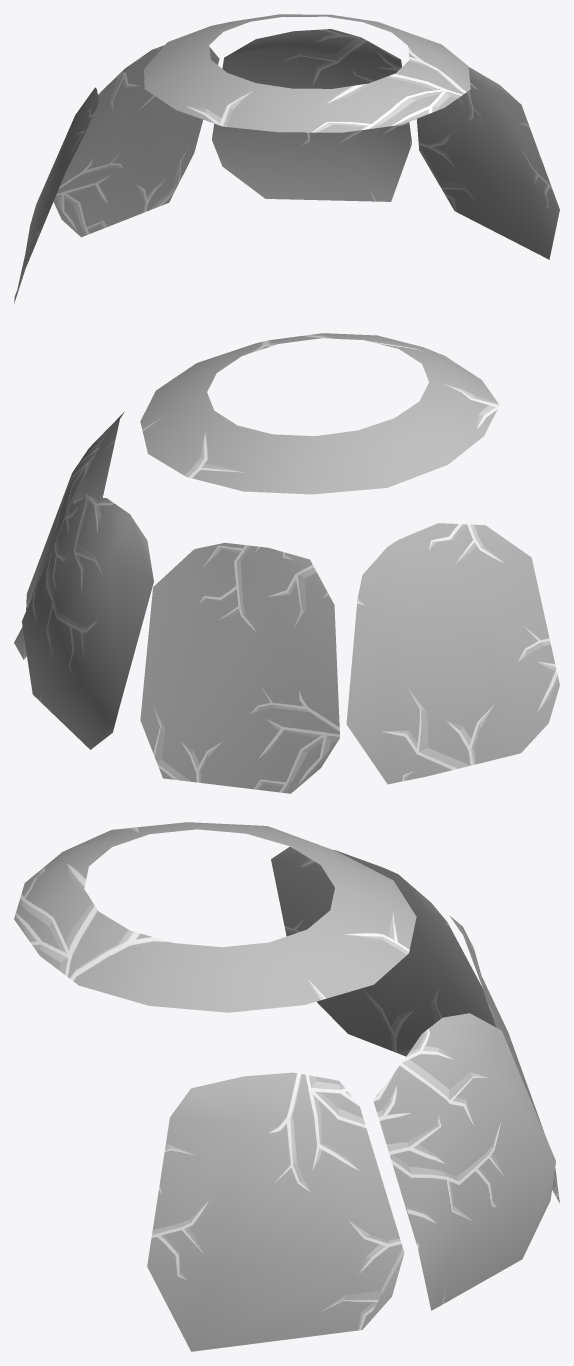
File: Station_DamagedWindows.fbx
3 views of the same model, one above another, from view 1: azimuth 30°, elevation 25°; view 2: azimuth 150°, elevation 25°; view 3: azimuth 270°, elevation 25° (orthographic). The views are drawn at different scales.
Visible parts, largest first — view 1: Station_DomeWindows_007; view 2: Station_DomeWindows_007; view 3: Station_DomeWindows_007.
Part boxes in pixels (x1,y1,x2,y2): Station_DomeWindows_007: (14, 14, 559, 303); Station_DomeWindows_007: (14, 333, 559, 793); Station_DomeWindows_007: (14, 822, 559, 1351).
Size of the model in its own units: 8.93 by 4.65 by 6.98.
